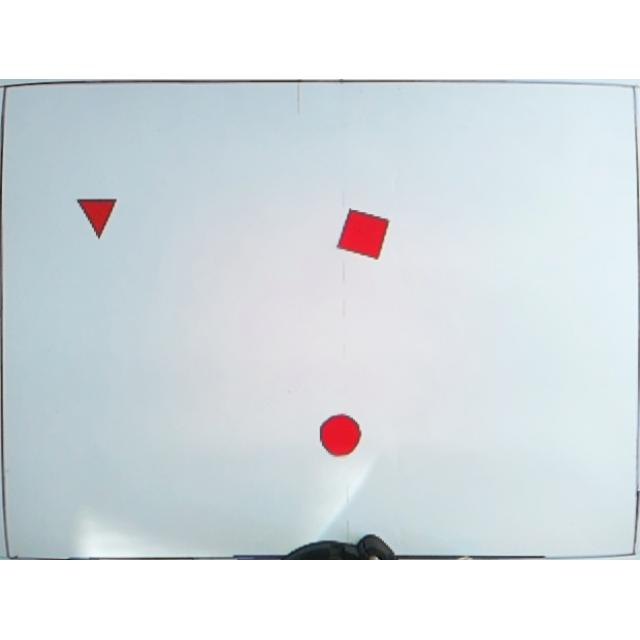redCircle: (318, 413, 362, 459)
redSquare: (336, 210, 392, 262)
redTriangle: (76, 198, 118, 240)
